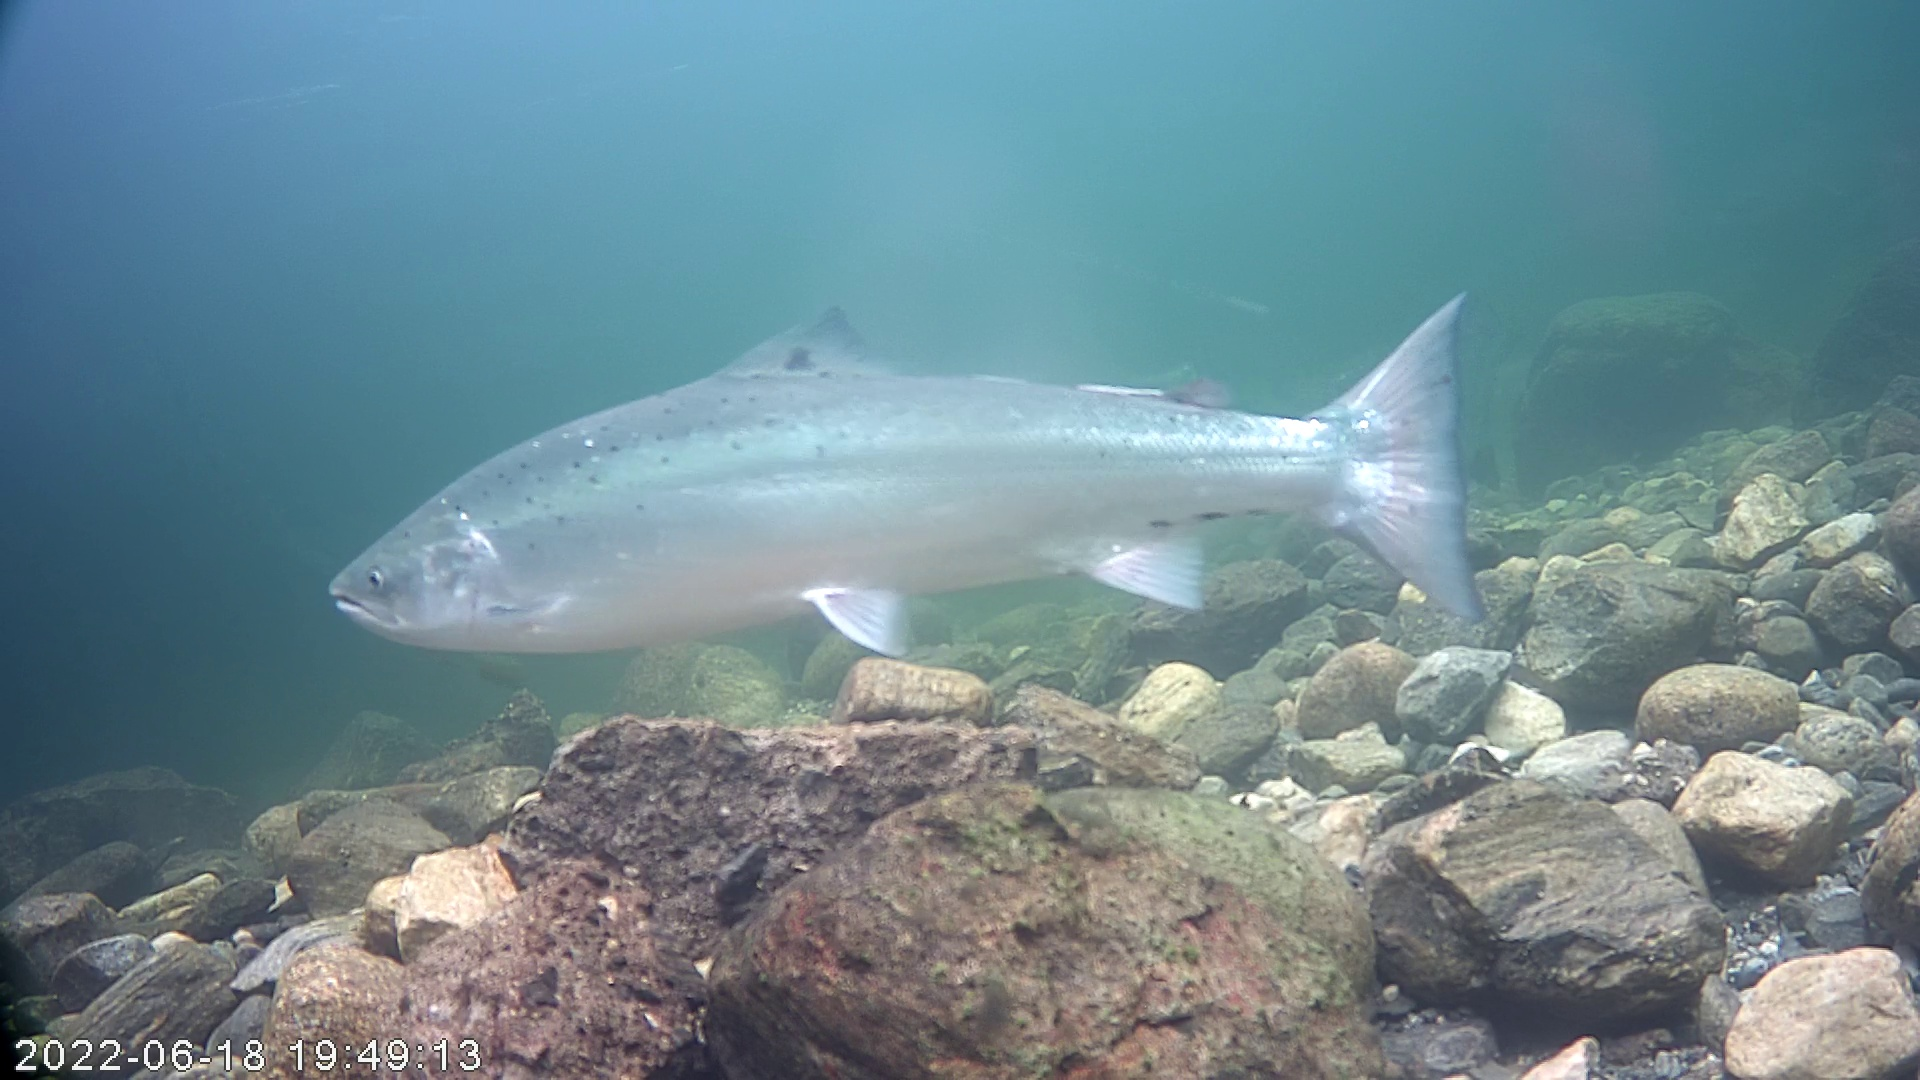salmon: (323, 284, 1491, 659)
